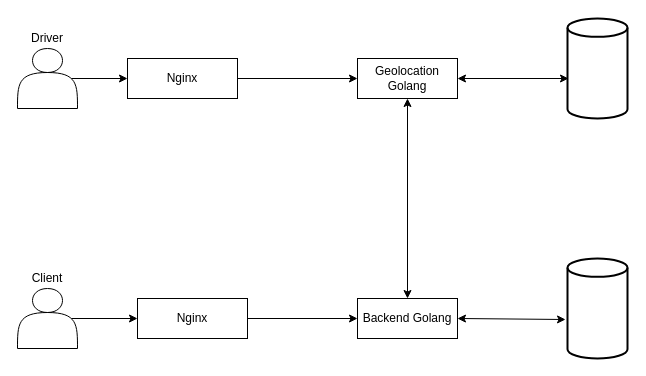
The diagram is 646 pixels wide and 376 high, and some of its shapes have lost their labels. Each missing label, with the centre of its shape:
"PostGIS" belongs at pixel 597 68.
"Postgres" belongs at pixel 597 308.
